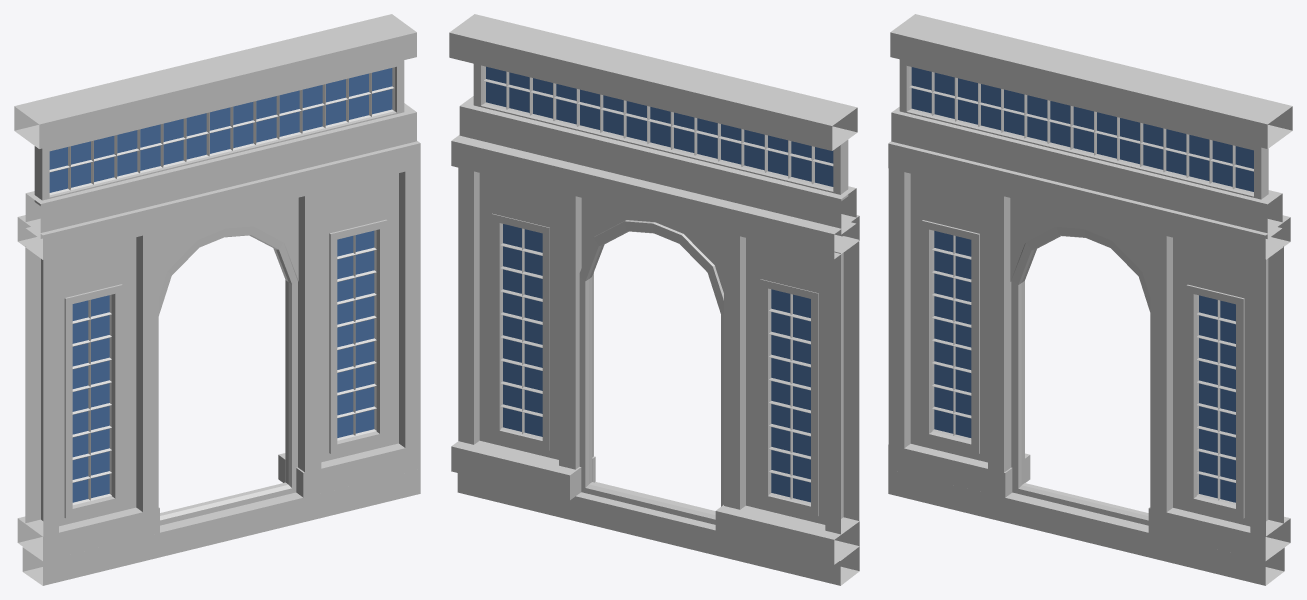
The model's file is Greenhouse Wall3.fbx.
The picture shows the model from 3 angles, left to right: view 1: azimuth 30°, elevation 25°; view 2: azimuth 150°, elevation 25°; view 3: azimuth 330°, elevation 25°; orthographic projection.
Visible parts, largest first — view 1: TripleWindow_Wallpiece001, Glass pane001, WindowFrames001, GlassWindowFrame048; view 2: TripleWindow_Wallpiece001, Glass pane001, WindowFrames001, GlassWindowFrame048; view 3: TripleWindow_Wallpiece001, Glass pane001, WindowFrames001, GlassWindowFrame048.
Part boxes in pixels (<box>): TripleWindow_Wallpiece001: <box>14,14,420,585</box>; Glass pane001: <box>49,68,392,502</box>; WindowFrames001: <box>34,60,404,525</box>; GlassWindowFrame048: <box>49,67,394,504</box>; TripleWindow_Wallpiece001: <box>449,14,859,585</box>; Glass pane001: <box>486,66,833,502</box>; WindowFrames001: <box>473,64,848,524</box>; GlassWindowFrame048: <box>483,66,833,504</box>; TripleWindow_Wallpiece001: <box>888,14,1292,585</box>; Glass pane001: <box>911,67,1253,502</box>; WindowFrames001: <box>899,59,1268,525</box>; GlassWindowFrame048: <box>909,66,1253,505</box>.
Size of the model in its own units: 298 by 345 by 37.96.
